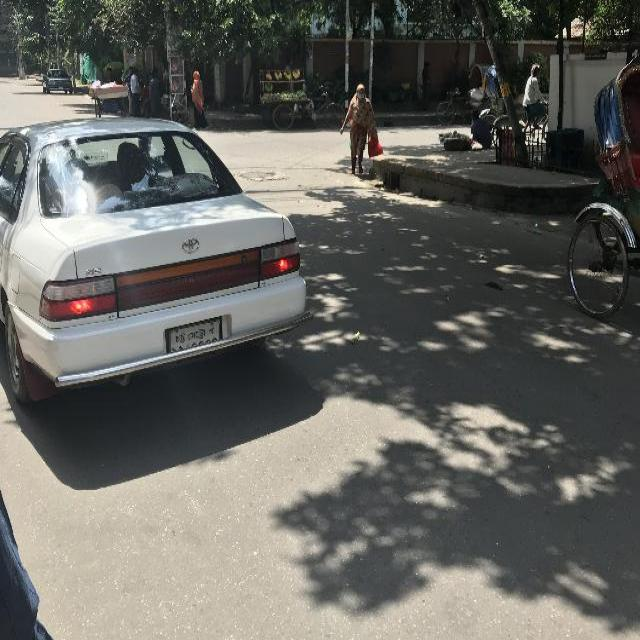vehicle: (7, 124, 319, 402), (568, 57, 640, 319), (481, 66, 552, 149), (432, 61, 492, 144), (43, 68, 75, 94)
